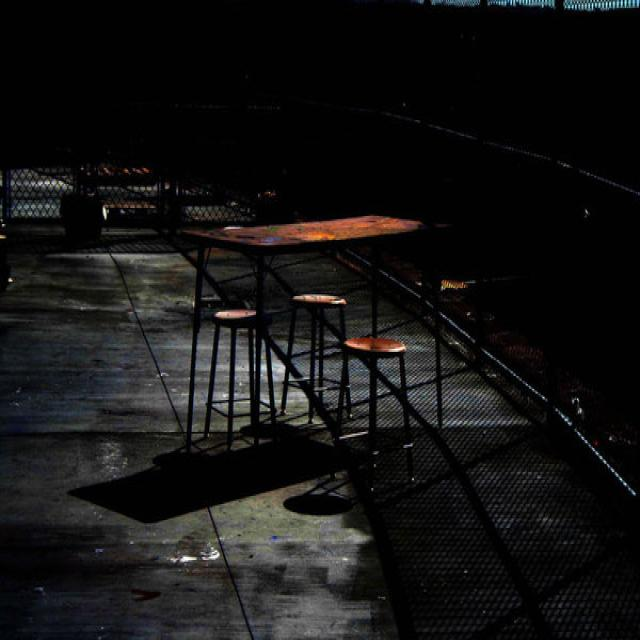Table: (181, 200, 463, 443)
chair: (334, 326, 420, 476), (415, 269, 494, 431), (278, 278, 353, 424), (201, 290, 266, 452)
